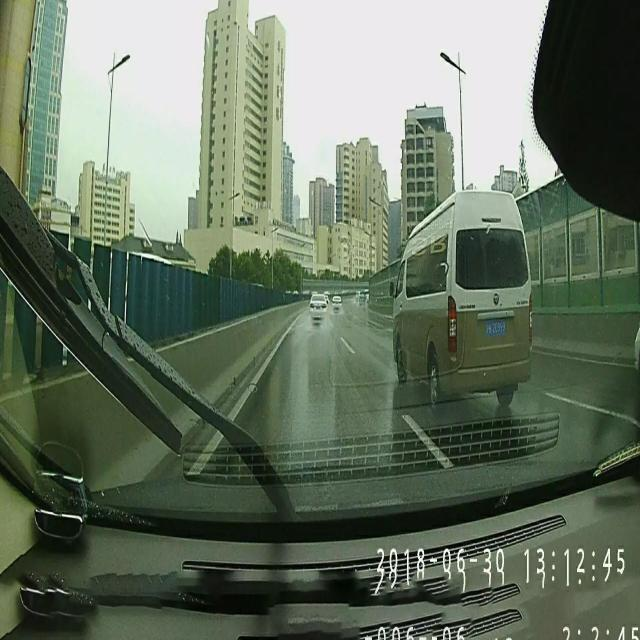car: (391, 188, 533, 407), (308, 290, 329, 324), (332, 295, 342, 315)
